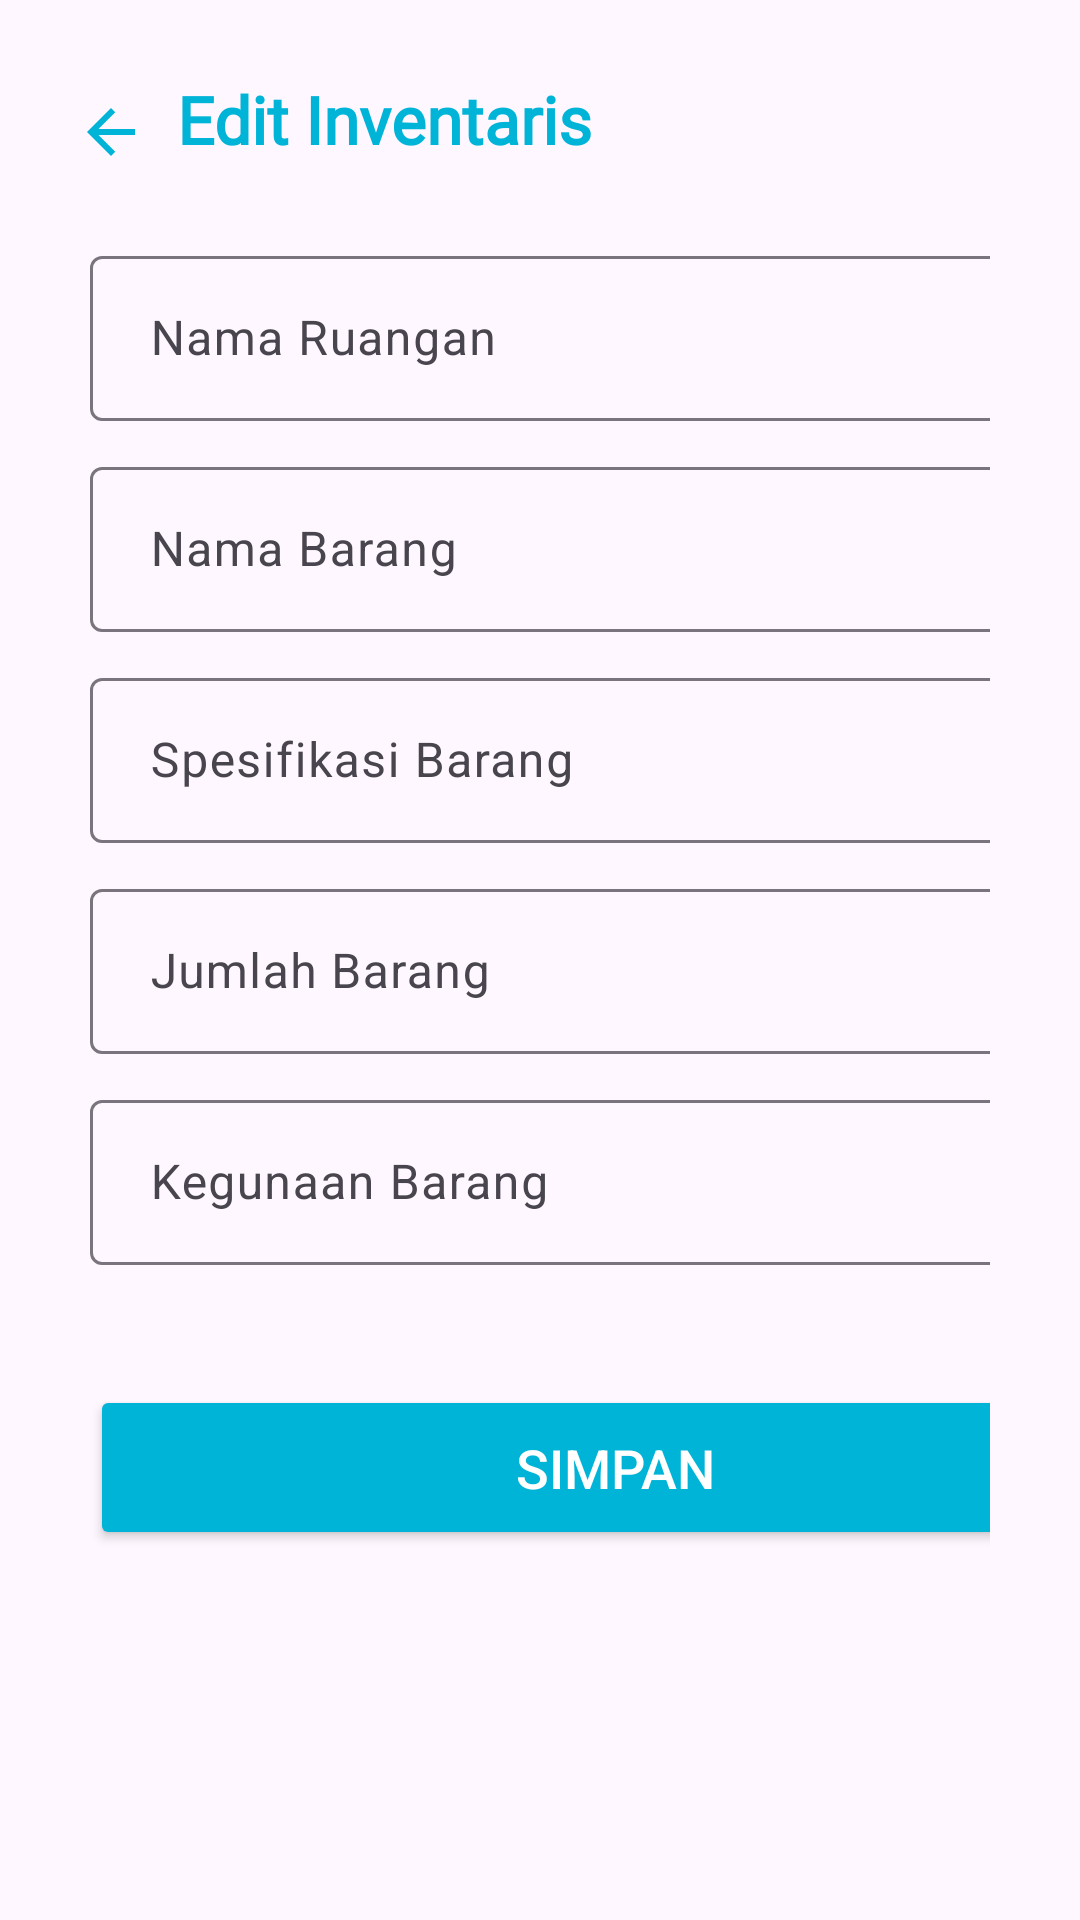

Locate icon controls on the screen. Image size 1080×1920, boxes as [left=x1, top=y1, right=x2, bottom=y2].
arrow back: [left=87, top=108, right=135, bottom=156]
